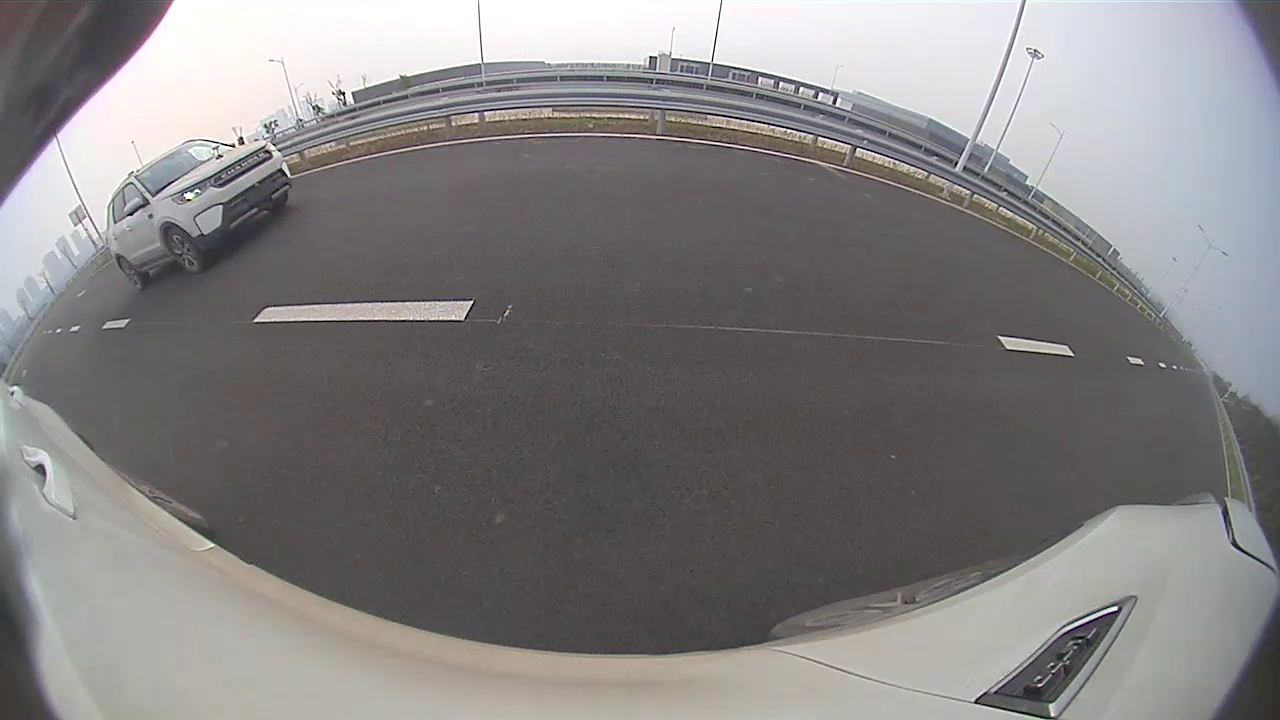car: (106, 139, 293, 291)
front: (162, 224, 204, 277)
rear: (114, 256, 146, 291)
